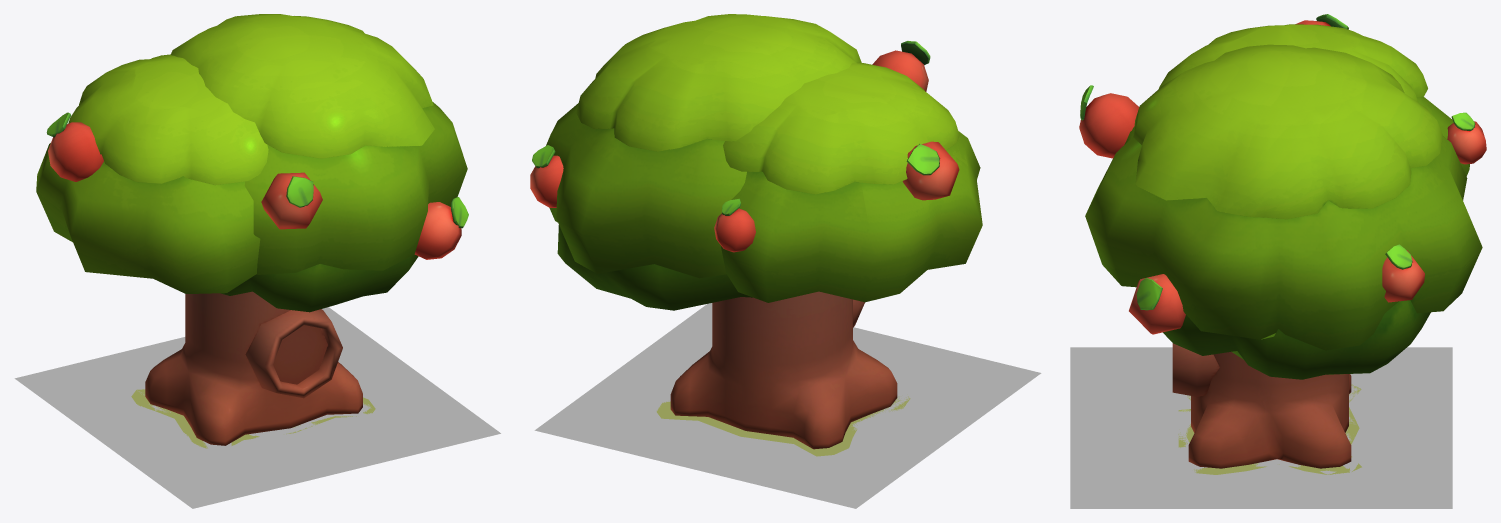
File: AppleTree_Large.fbx
3 renders of one model, left to right at view 1: azimuth 30°, elevation 25°; view 2: azimuth 150°, elevation 25°; view 3: azimuth 270°, elevation 25°, orthographic. The views are drawn at different scales.
Parts seen in each view (by area): view 1: AppleTree_Large_Leaf, AppleTree_Large, AppleTree_Large_Grid.001, polySurface21, AppleTree_Large_Apples, Trunk, AppleTree_LargeShadow; view 2: AppleTree_Large_Leaf, AppleTree_Large, AppleTree_Large_Grid.001, polySurface21, AppleTree_Large_Apples, AppleTree_LargeShadow; view 3: AppleTree_Large_Leaf, AppleTree_Large_Grid.001, AppleTree_Large, AppleTree_Large_Apples, Trunk, AppleTree_LargeShadow, polySurface21.
Boxes of the visible parts, x1,y1,x2,y2 form: AppleTree_Large_Leaf: [171, 14, 467, 312]; AppleTree_Large: [68, 54, 362, 445]; AppleTree_Large_Grid.001: [14, 307, 500, 508]; polySurface21: [36, 143, 260, 293]; AppleTree_Large_Apples: [46, 112, 468, 259]; Trunk: [245, 309, 342, 398]; AppleTree_LargeShadow: [131, 389, 375, 448]; AppleTree_Large_Leaf: [546, 14, 861, 310]; AppleTree_Large: [670, 62, 959, 449]; AppleTree_Large_Grid.001: [534, 303, 1041, 508]; polySurface21: [720, 131, 982, 302]; AppleTree_Large_Apples: [530, 41, 959, 252]; AppleTree_LargeShadow: [656, 396, 910, 456]; AppleTree_Large_Leaf: [1085, 44, 1482, 379]; AppleTree_Large_Grid.001: [1070, 347, 1452, 508]; AppleTree_Large: [1159, 24, 1427, 468]; AppleTree_Large_Apples: [1079, 14, 1486, 334]; Trunk: [1172, 343, 1219, 396]; AppleTree_LargeShadow: [1178, 384, 1361, 474]; polySurface21: [1417, 96, 1469, 176].
Size of the model in its own units: 379 by 326 by 327.
